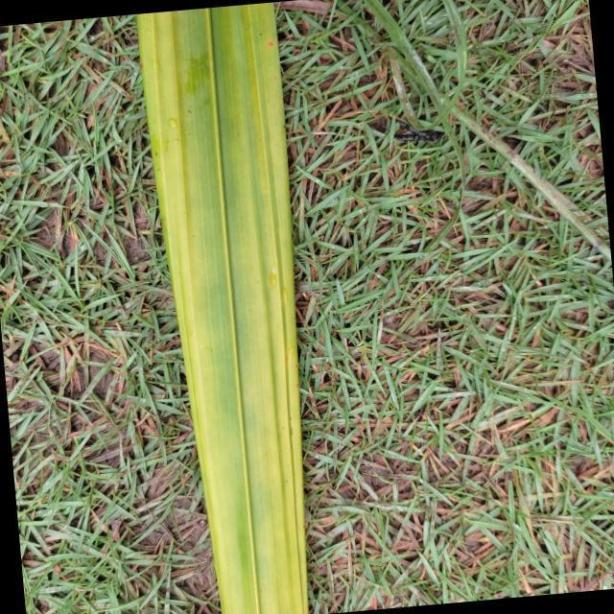nitrogen: (139, 0, 310, 614)
